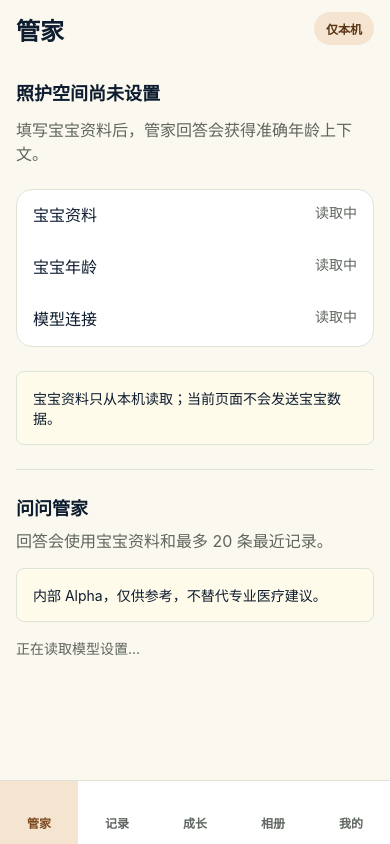
visits 记录 through its accessible tab
expect the heading "照护空间尚未设置" is shown: met, box [16,83,160,104]
Click the tab labelled "记录". click: [117, 824]
box: [105,816,129,831]
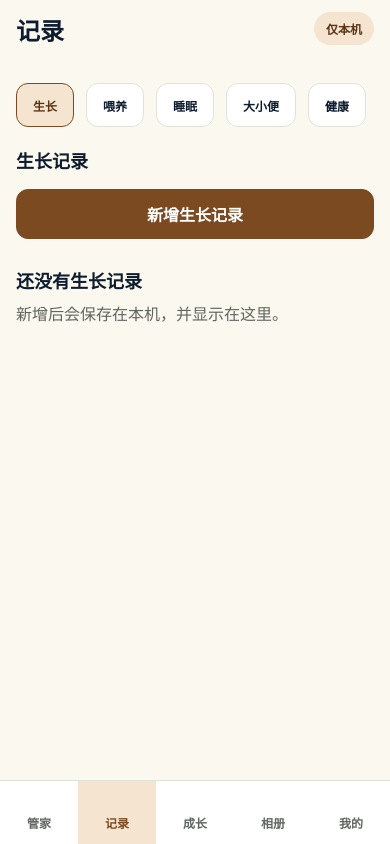
expect the heading "生长记录" is shown: met, box [16,151,88,172]
